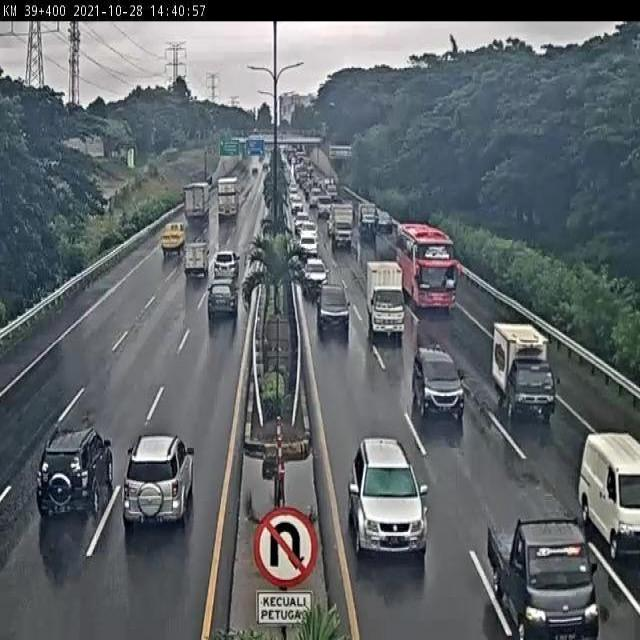bus-l-: (395, 221, 458, 312)
car: (487, 514, 601, 640), (346, 436, 428, 559), (580, 431, 640, 556), (36, 428, 117, 517), (122, 436, 195, 524), (411, 347, 466, 420), (317, 280, 352, 329), (206, 278, 241, 322), (302, 257, 329, 291), (213, 249, 241, 280)
small truck: (183, 240, 211, 277)
truck-m-: (364, 260, 406, 336)
truck-s-: (489, 320, 557, 424)
